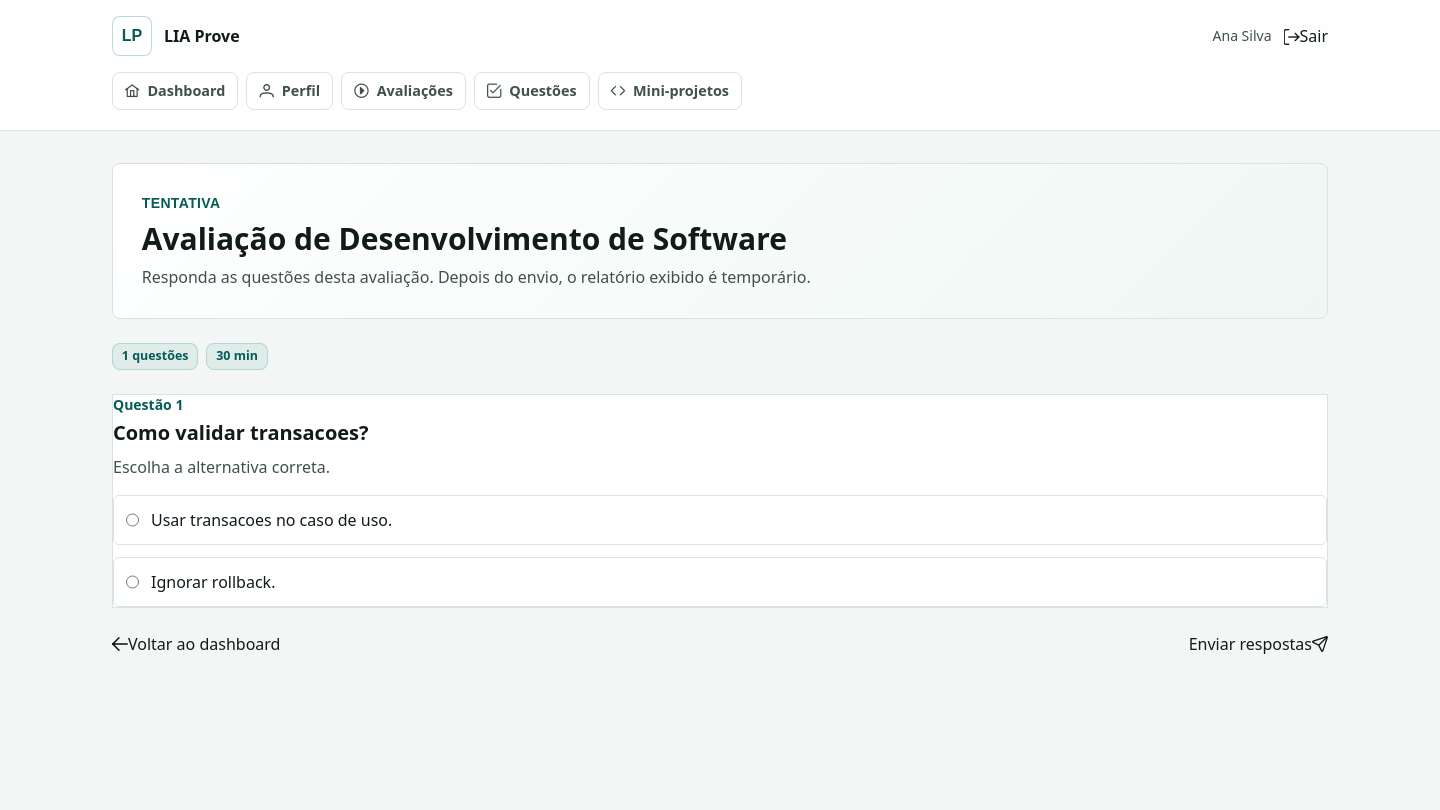
Test: AssessmentAttemptView › requires every multiple-choice question to be answered
This screenshot has width=1440, height=810.
Click the button with test id "submit-assessment" at (1258, 644), box [1189,632,1328,656]
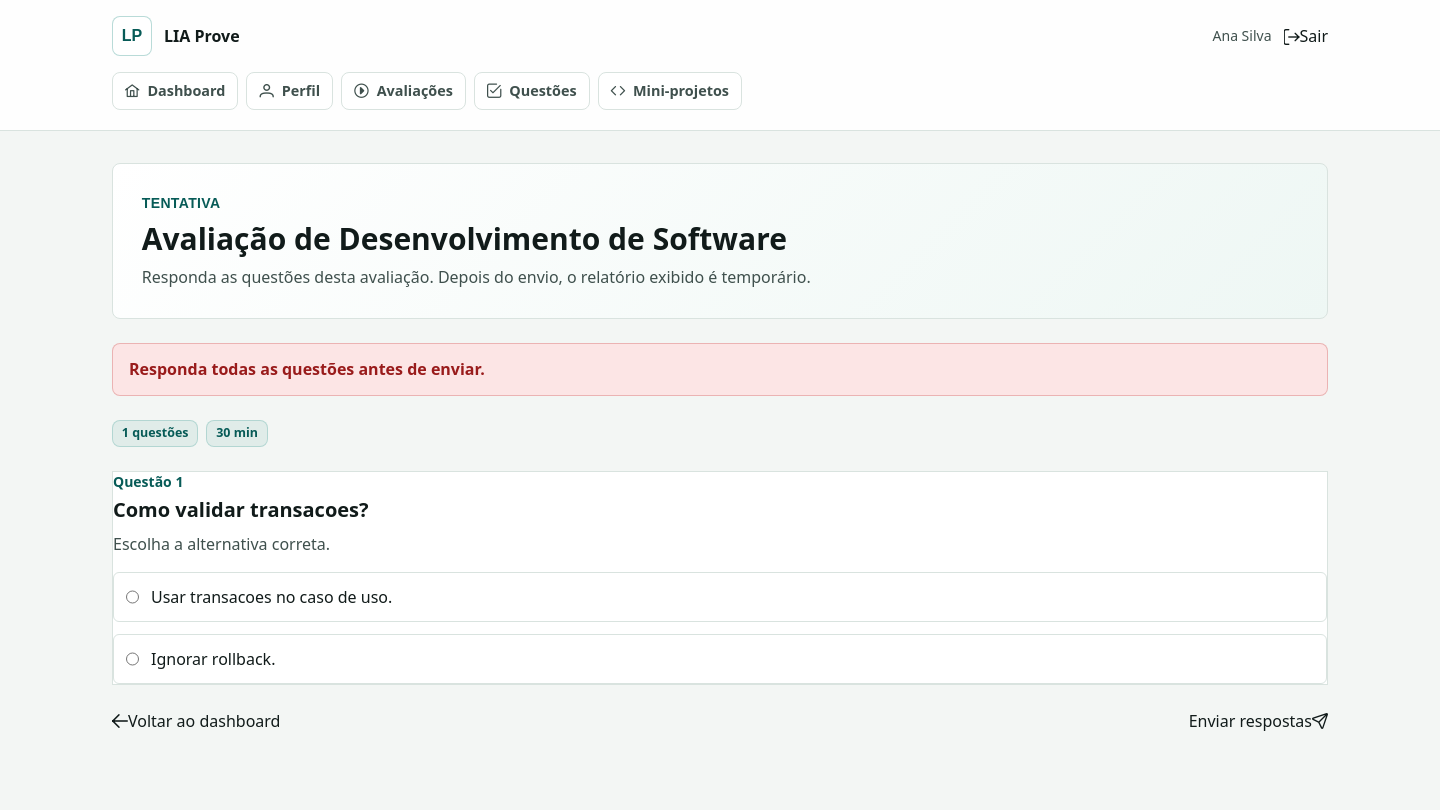
Result: the text "Responda todas as questões antes de enviar." is shown at [112,343,1328,396]
